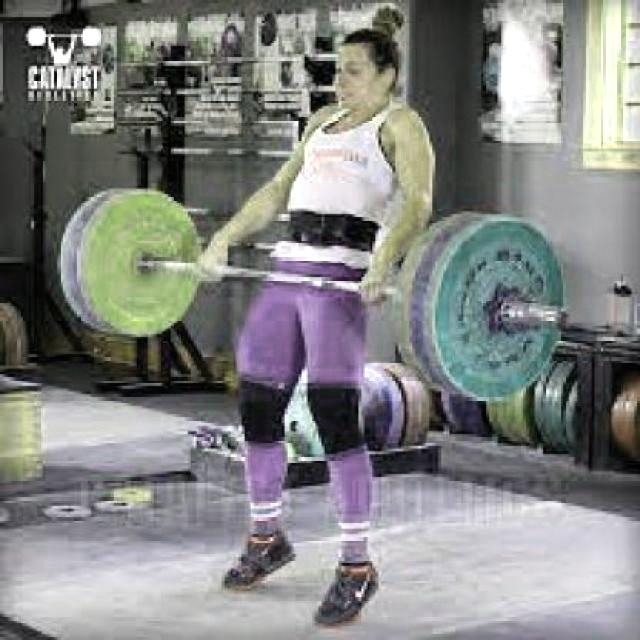barbell: (392, 202, 577, 405)
